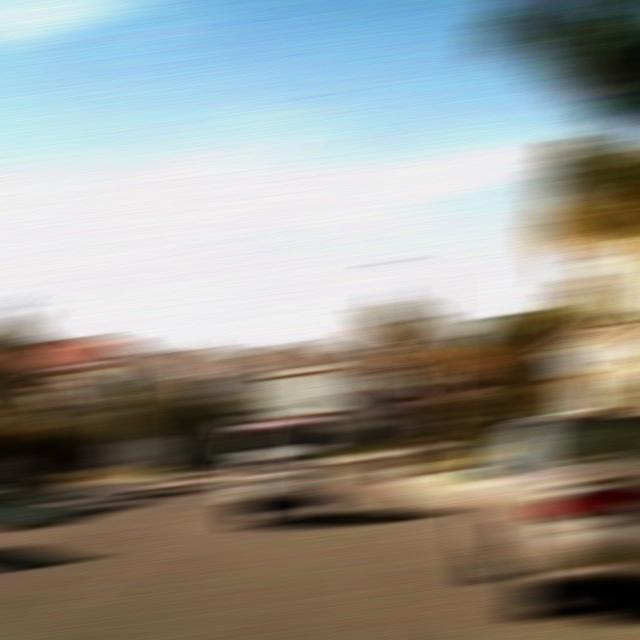stop_sign: (420, 391, 455, 408)
